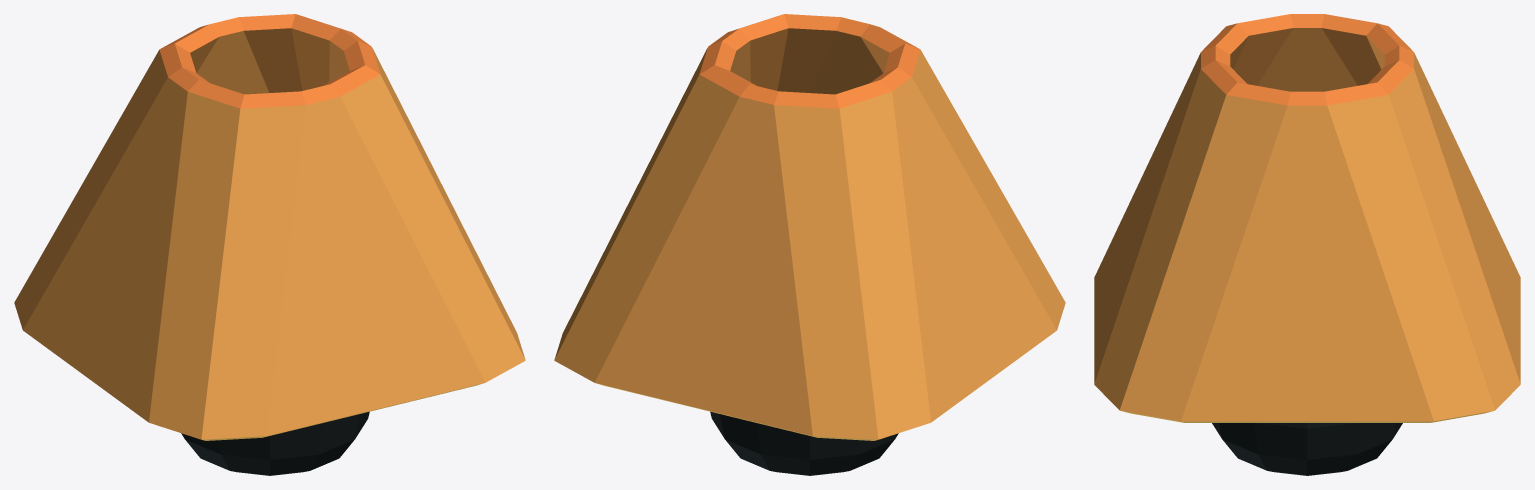
The model's file is kk_lamp_table.obj.
3 views of the same model, side by side, from view 1: azimuth 30°, elevation 25°; view 2: azimuth 150°, elevation 25°; view 3: azimuth 270°, elevation 25° (orthographic).
Bounding box in the file's own units: 1 × 1.02 × 1.
